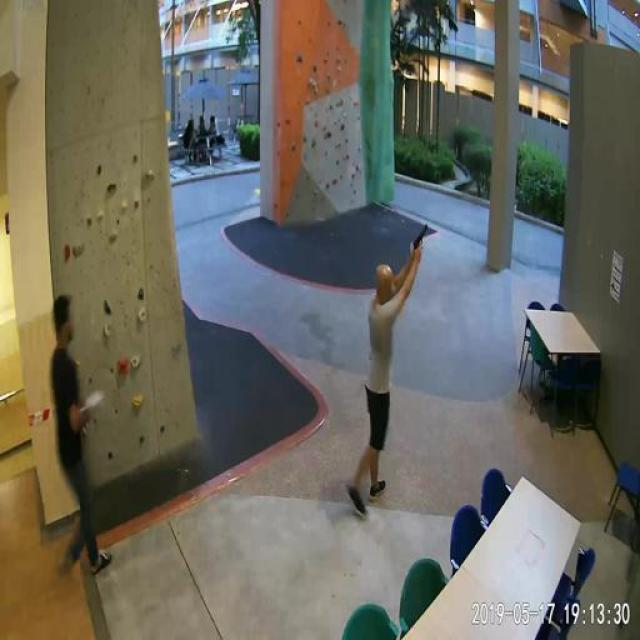Gun: (412, 216, 442, 262)
